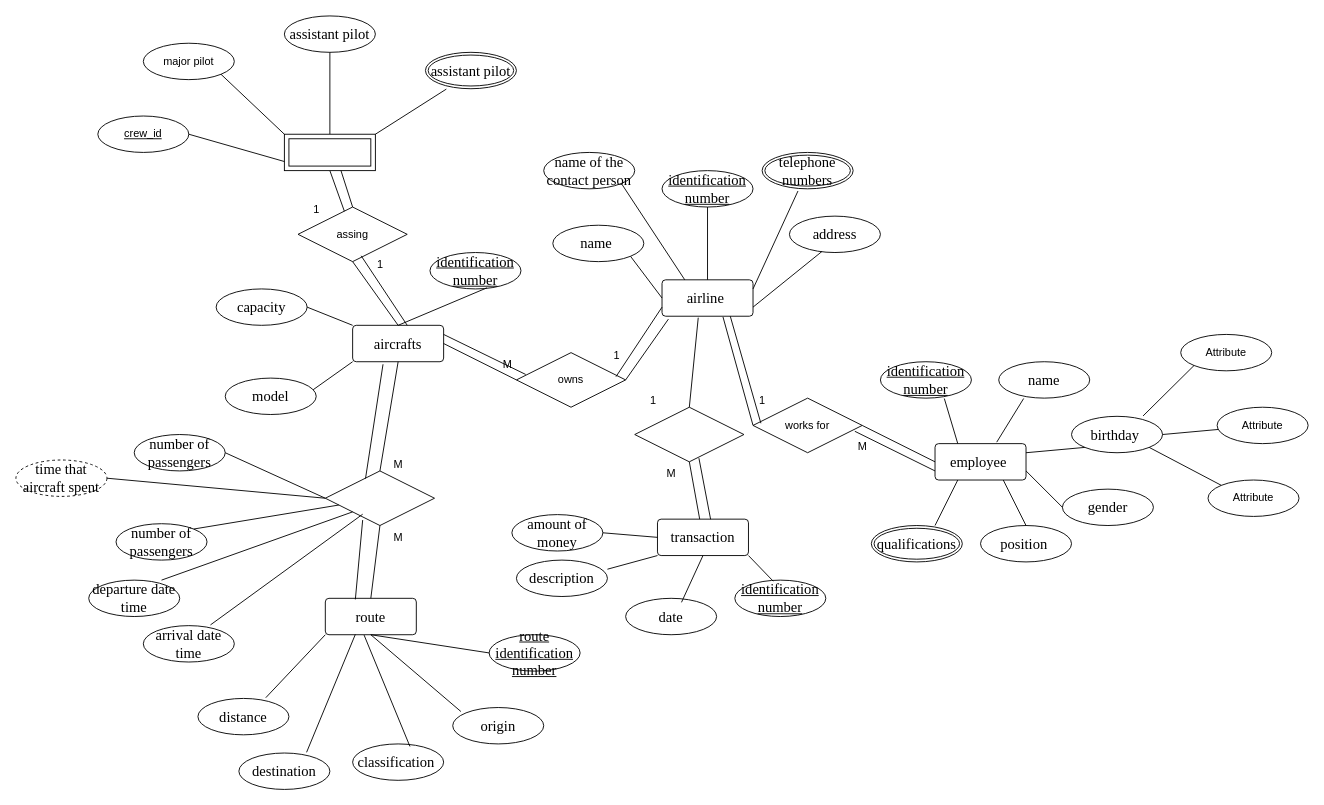
The diagram is 1324 pixels wide and 805 high, and some of its shapes have lost their labels. Each missing label, with the centre of its shape:
crew: the point at 329,152
has: the point at 689,434
works on: the point at 379,498
